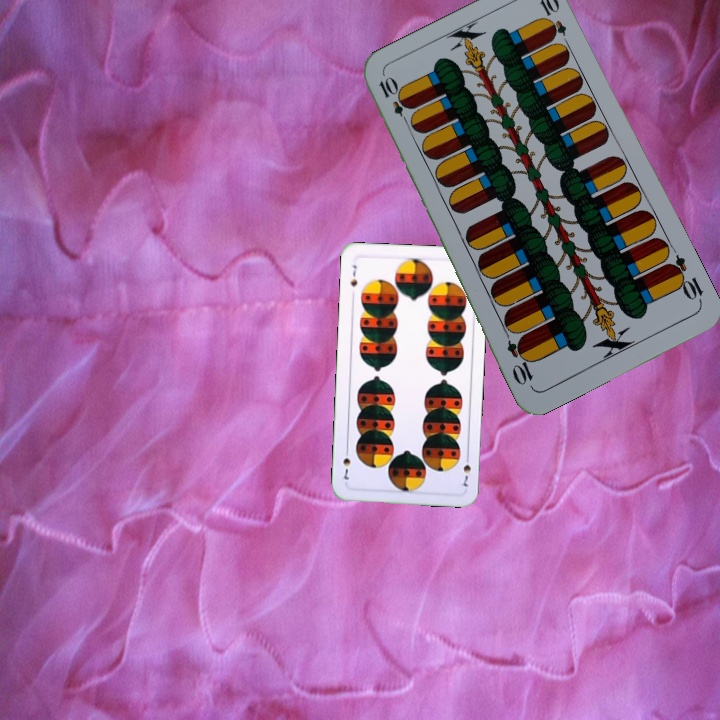E10: (663, 251, 706, 306), (374, 73, 414, 129)
S7: (457, 450, 473, 489), (346, 261, 360, 289)
